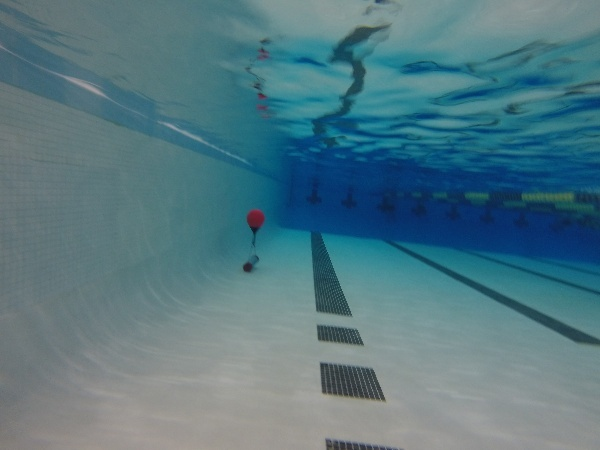buoy_red: (245, 207, 266, 235)
